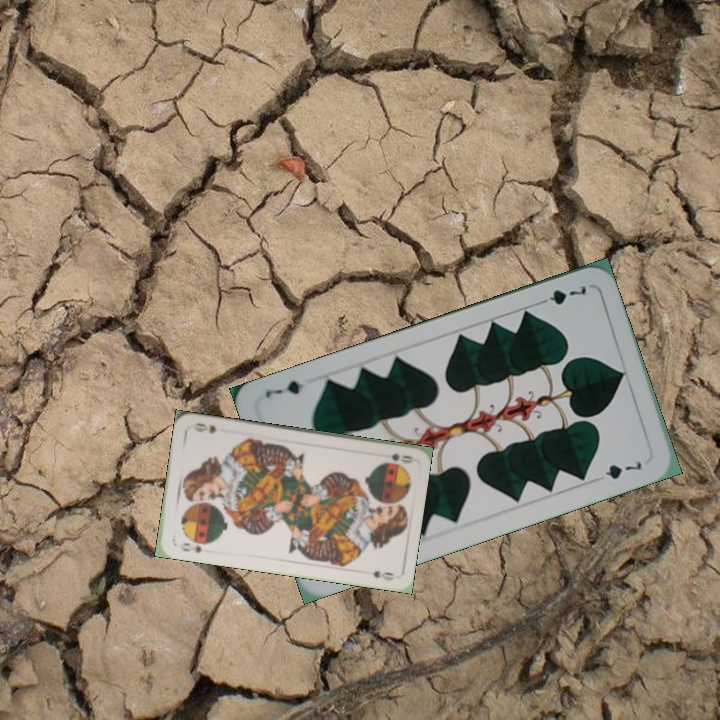G7: (533, 281, 589, 308)
SO: (387, 449, 415, 466), (178, 539, 205, 555)
